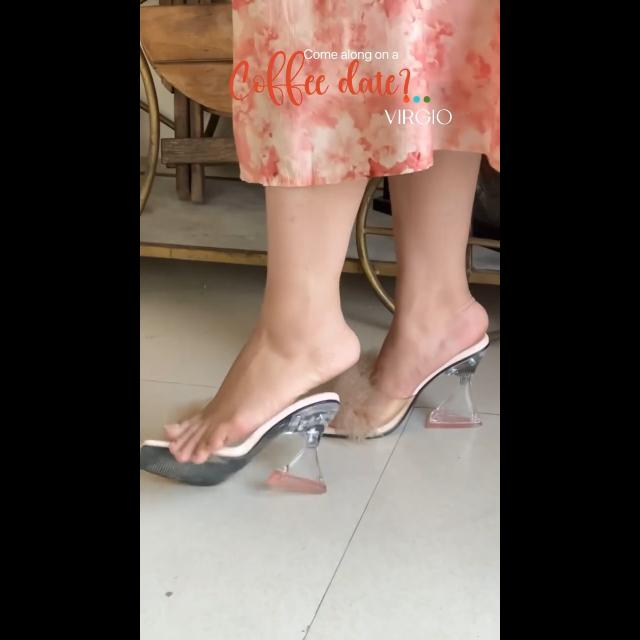shoes: (143, 396, 351, 510), (324, 327, 496, 451)
